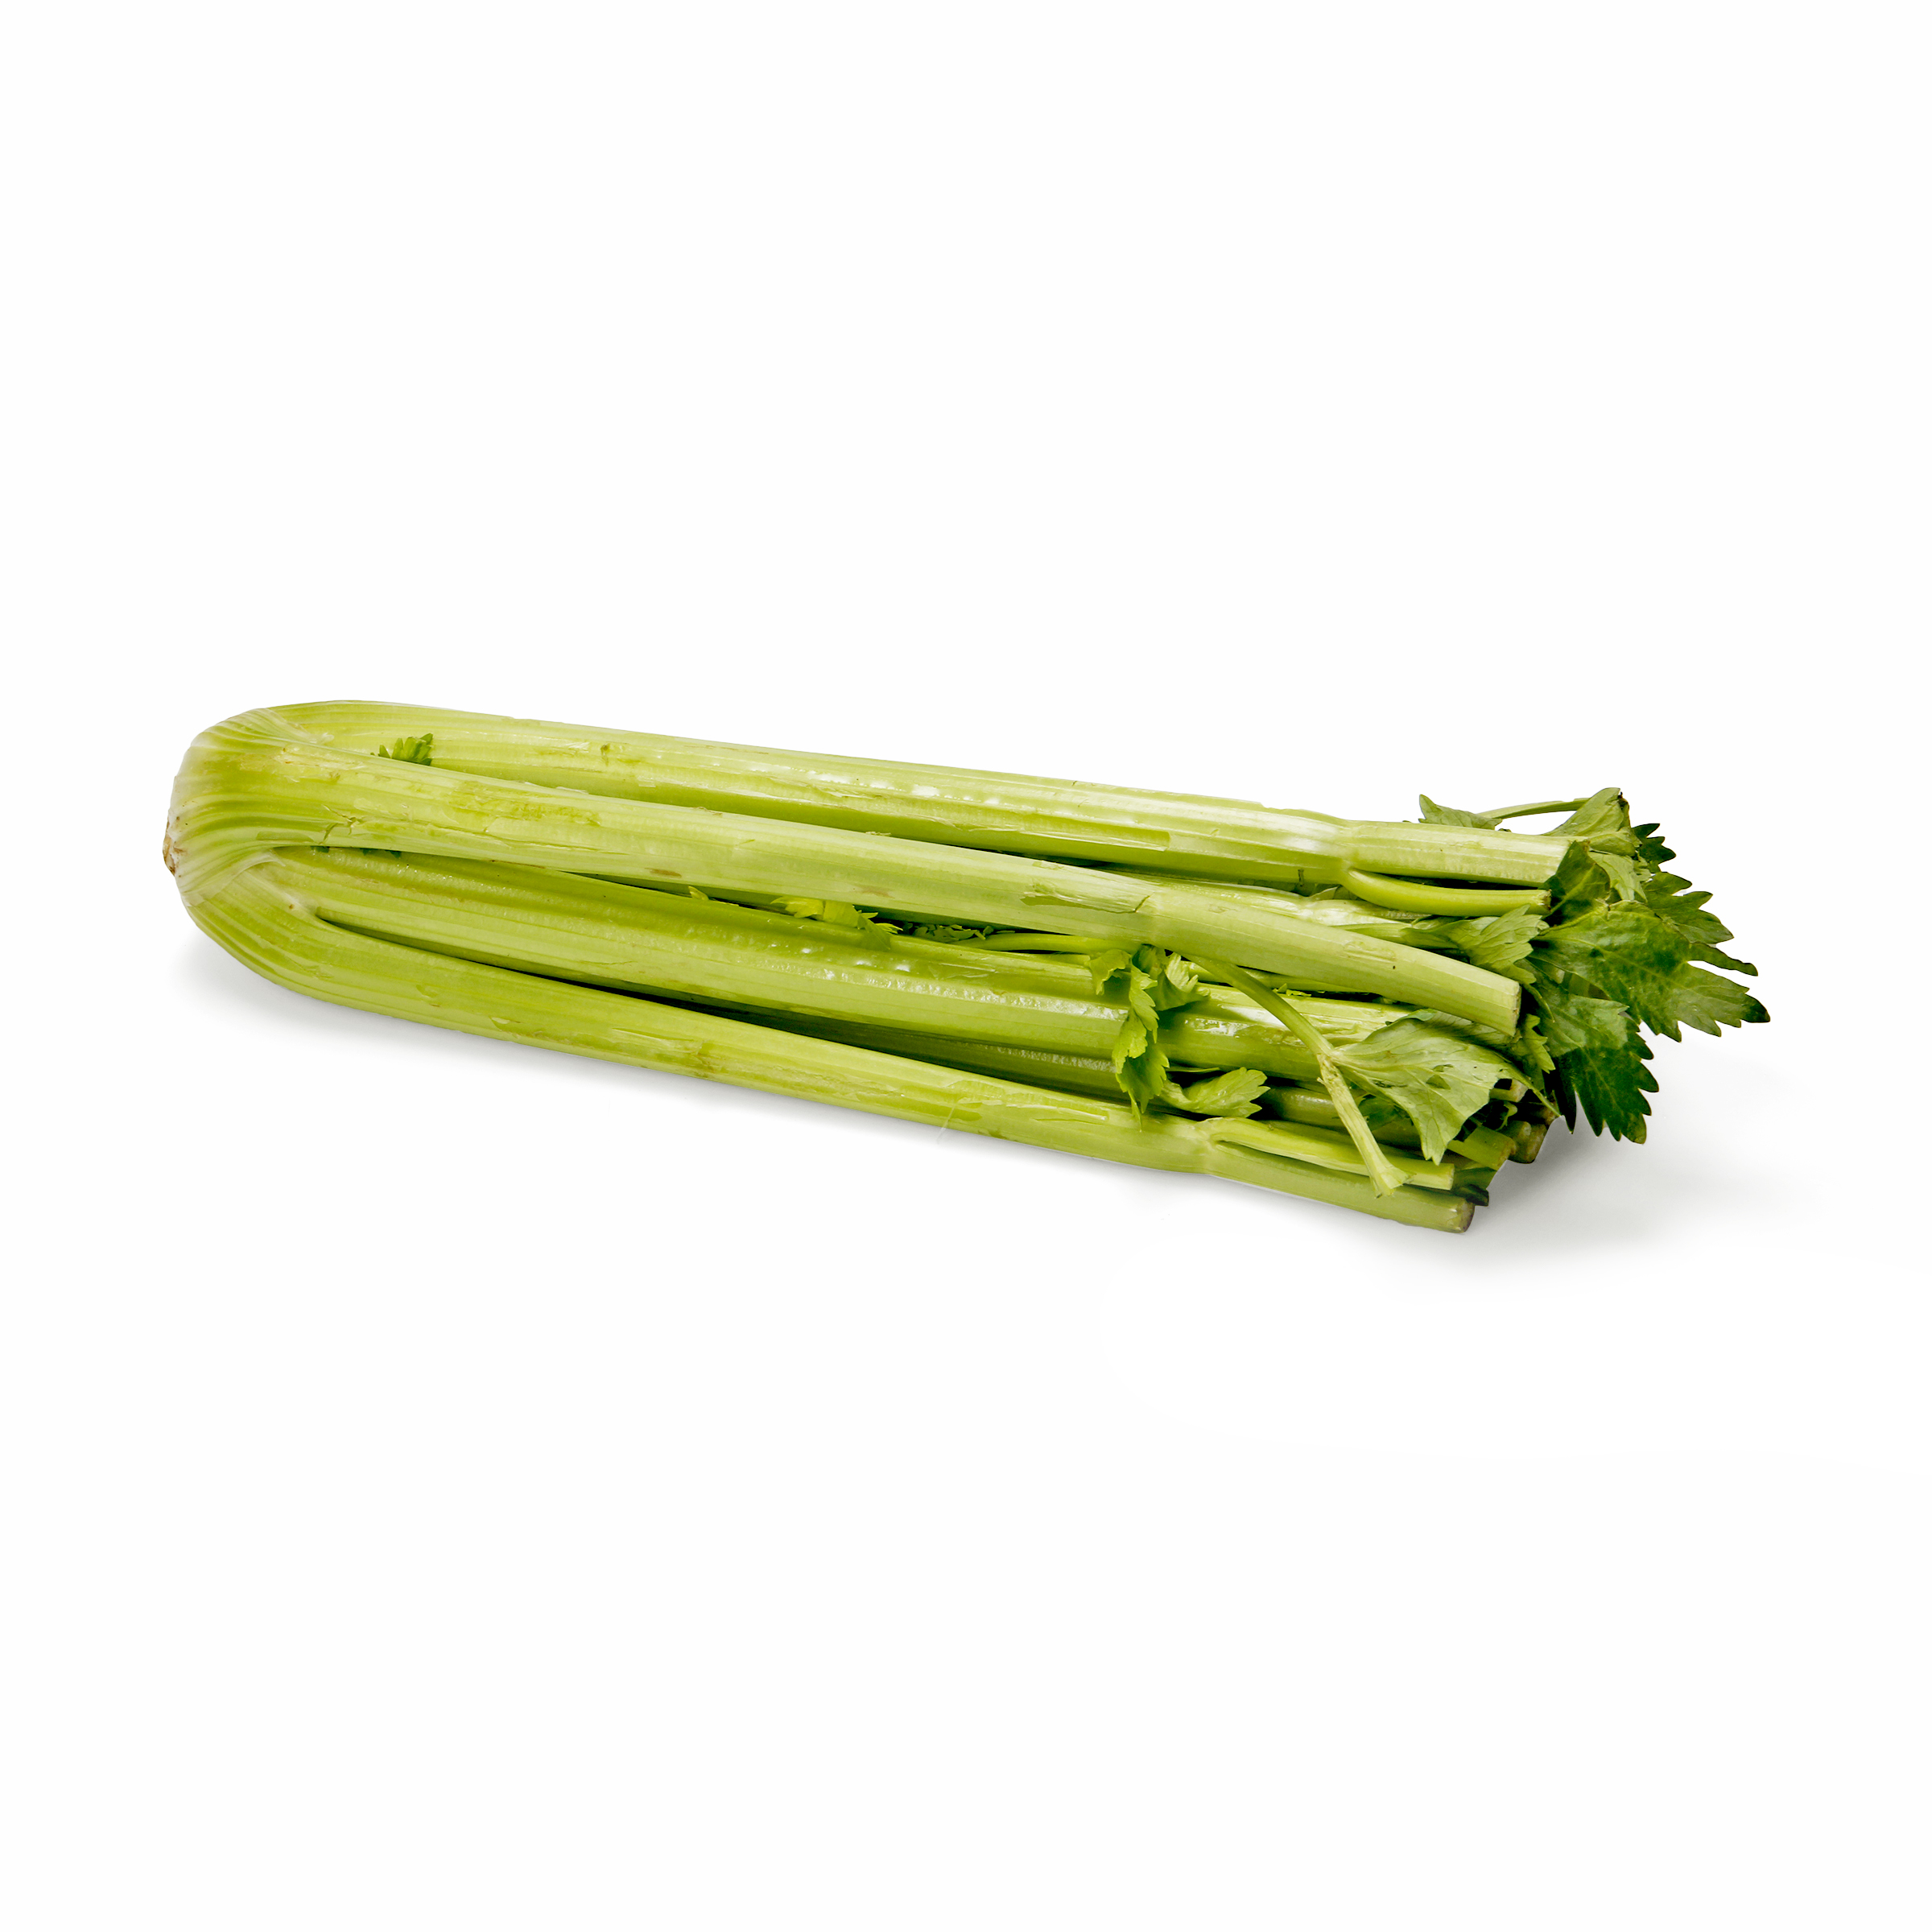Seledri: (136, 603, 1913, 1399)
